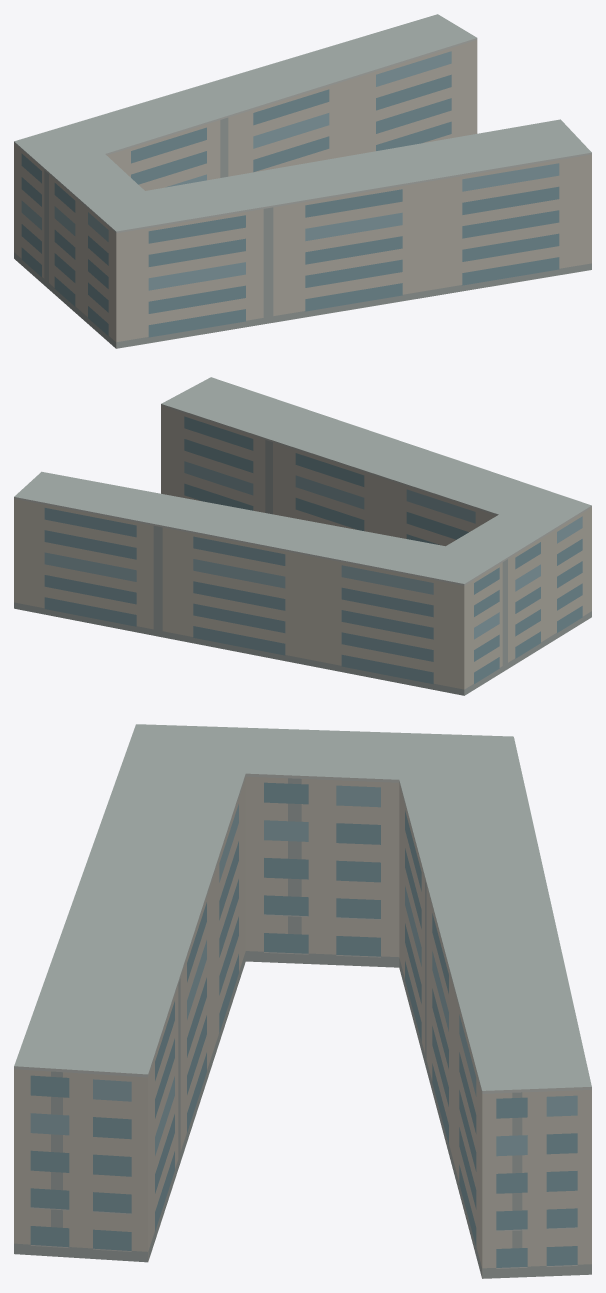
The model's file is residential-1fd78002-6a10-41d2-9b26-9b80fac8a436.glb.
The picture shows the model from 3 angles, top to bottom: view 1: azimuth 30°, elevation 25°; view 2: azimuth 150°, elevation 25°; view 3: azimuth 270°, elevation 25°; orthographic projection. The views are drawn at different scales.
Visible parts, largest first — view 1: residential-1fd78002-6a10-41d2-9b26-9b80fac8a436.tmp; view 2: residential-1fd78002-6a10-41d2-9b26-9b80fac8a436.tmp; view 3: residential-1fd78002-6a10-41d2-9b26-9b80fac8a436.tmp.
Part boxes in pixels (bbox=[...]): residential-1fd78002-6a10-41d2-9b26-9b80fac8a436.tmp: bbox=[14, 14, 591, 348]; residential-1fd78002-6a10-41d2-9b26-9b80fac8a436.tmp: bbox=[14, 377, 591, 695]; residential-1fd78002-6a10-41d2-9b26-9b80fac8a436.tmp: bbox=[14, 724, 591, 1278].
Size of the model in its own units: 63.87 by 15.25 by 42.52.
